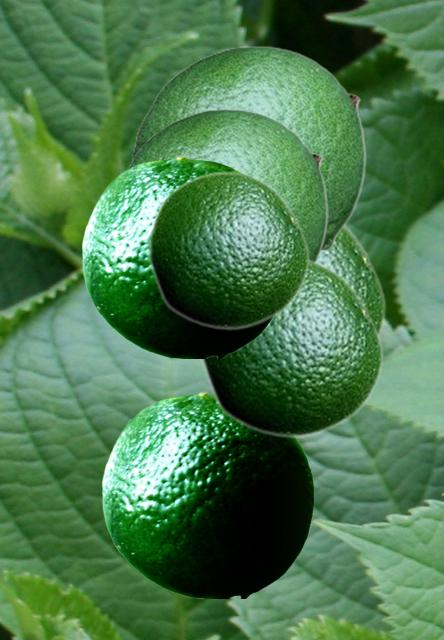calamansi: (132, 45, 365, 254), (102, 391, 313, 597), (82, 155, 274, 357), (199, 256, 383, 438), (124, 108, 327, 260), (147, 170, 309, 330), (319, 223, 386, 341)
